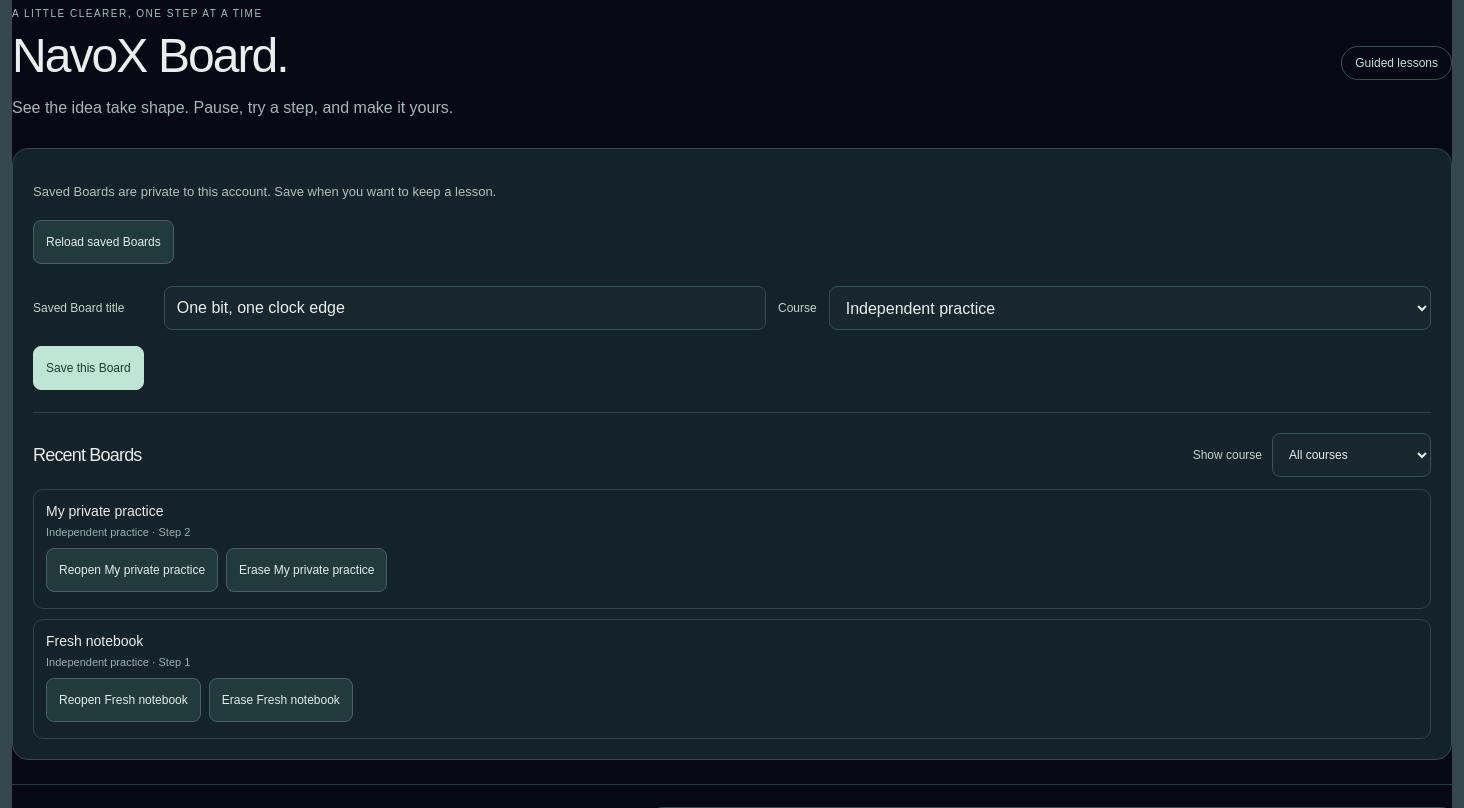
Test: saved authored Boards › reopens saved progress paused and resets the same lesson when a different saved Board opens
Click the button "Reopen My private practice" at {"x": 132, "y": 570}, box left=46, top=548, right=218, bottom=592
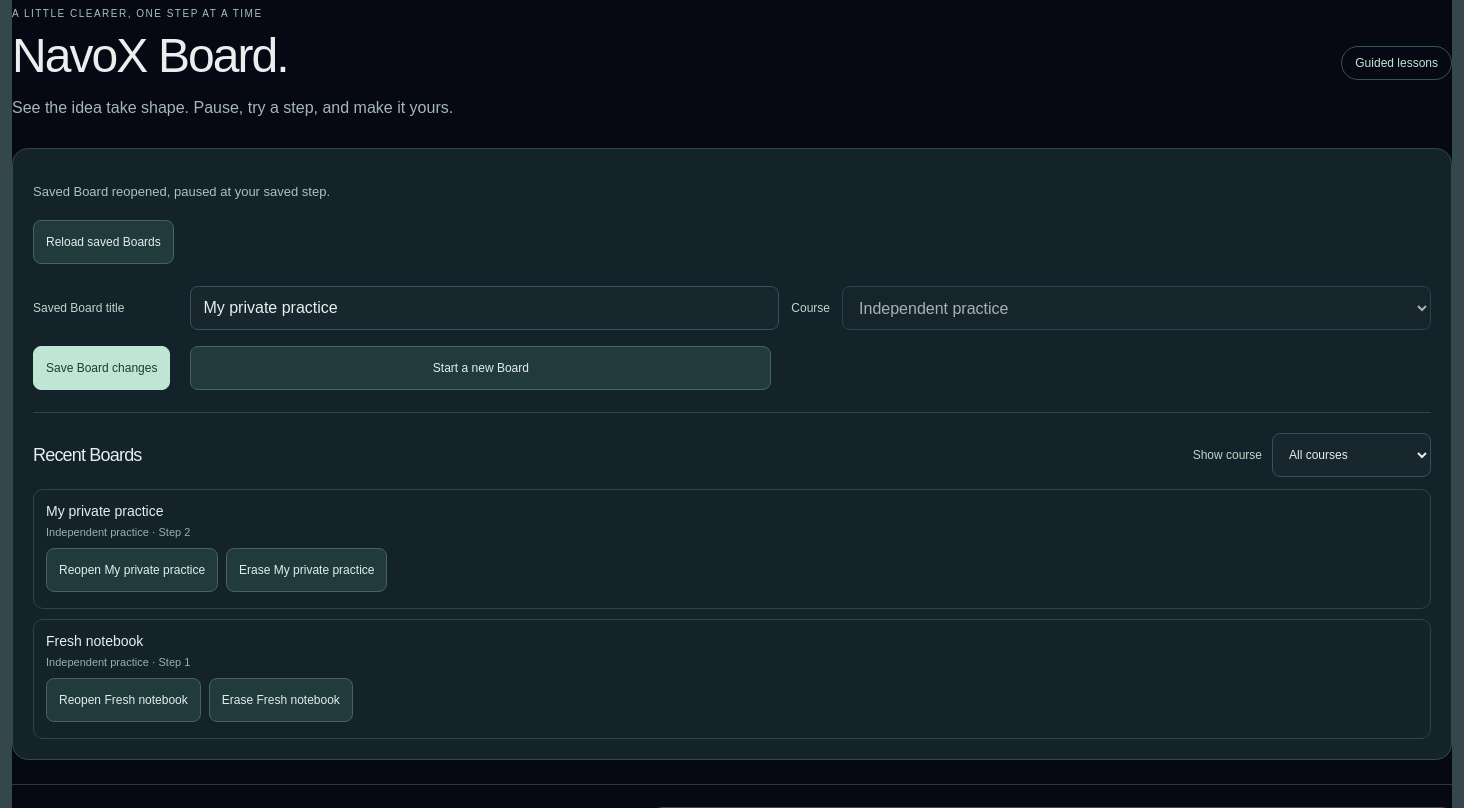
Click the button "Reopen Fresh notebook" at {"x": 123, "y": 700}, box left=46, top=678, right=201, bottom=722
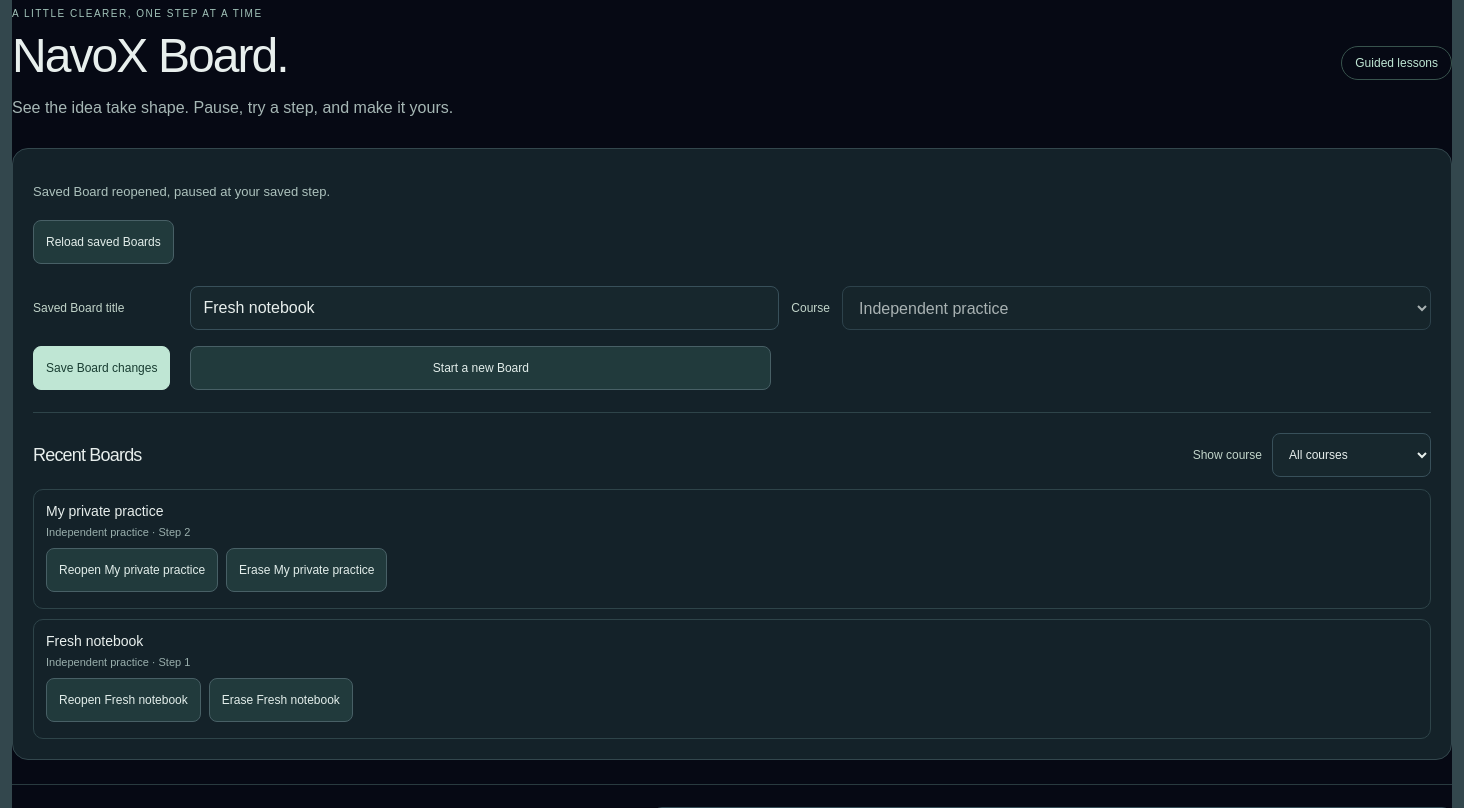
Result: the field with id "board-save-title" holds "Fresh notebook" at left=190, top=286, right=779, bottom=330
